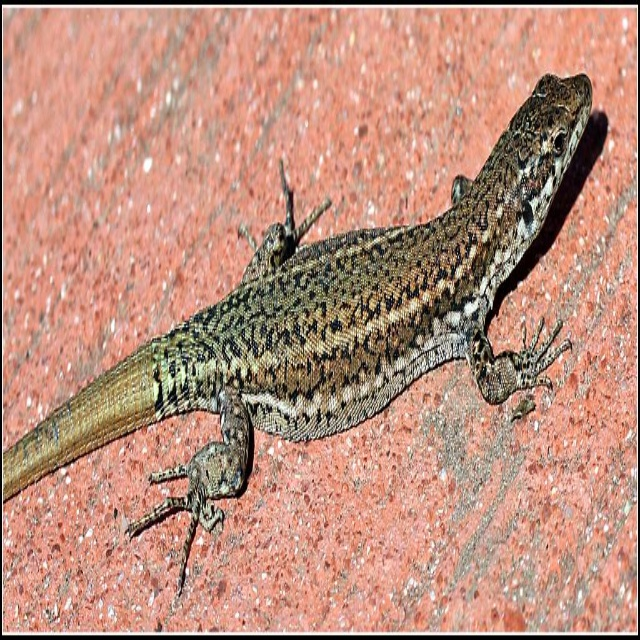Lizard: (18, 108, 594, 617)
